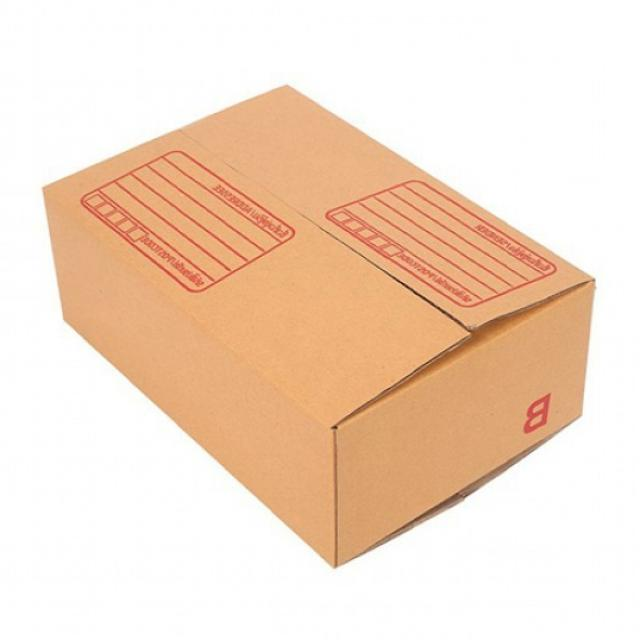box: (34, 76, 608, 567)
